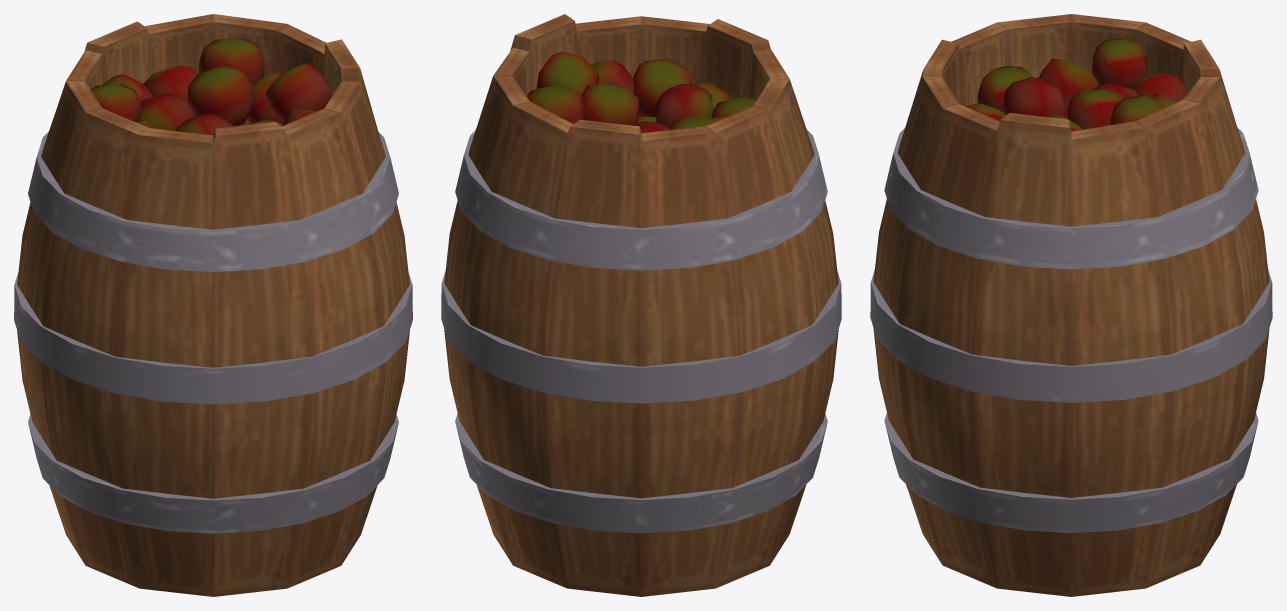
Rendered from Barrel_Apples.glb.
The picture shows the model from 3 angles, left to right: view 1: azimuth 30°, elevation 25°; view 2: azimuth 150°, elevation 25°; view 3: azimuth 270°, elevation 25°; orthographic projection.
Visible parts, largest first — view 1: Barrel_Apples; view 2: Barrel_Apples; view 3: Barrel_Apples.
Boxes of the visible parts, box(x1,y1,x2,y2) form: Barrel_Apples: box(14, 14, 412, 596); Barrel_Apples: box(441, 14, 841, 596); Barrel_Apples: box(870, 14, 1272, 596).
Size of the model in its own units: 0.698 by 0.898 by 0.698.
Materials: 3 (3 with a texture image).
